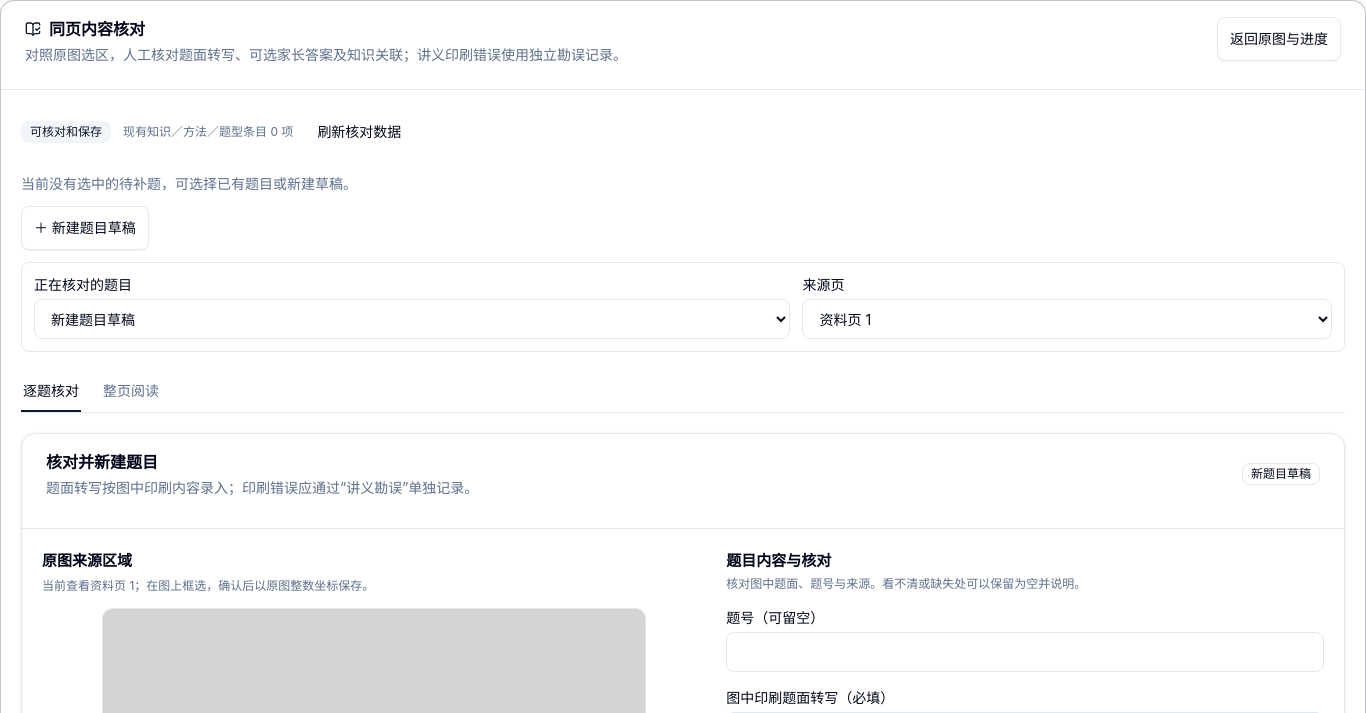
Test case: ContentWorkspace › does not derive a second work-text requirement when printed text is usable
Select "第 3 题 · 原印刷题面" in the dropdown labelled "正在核对的题目" at (412, 319), box [34, 299, 790, 339]
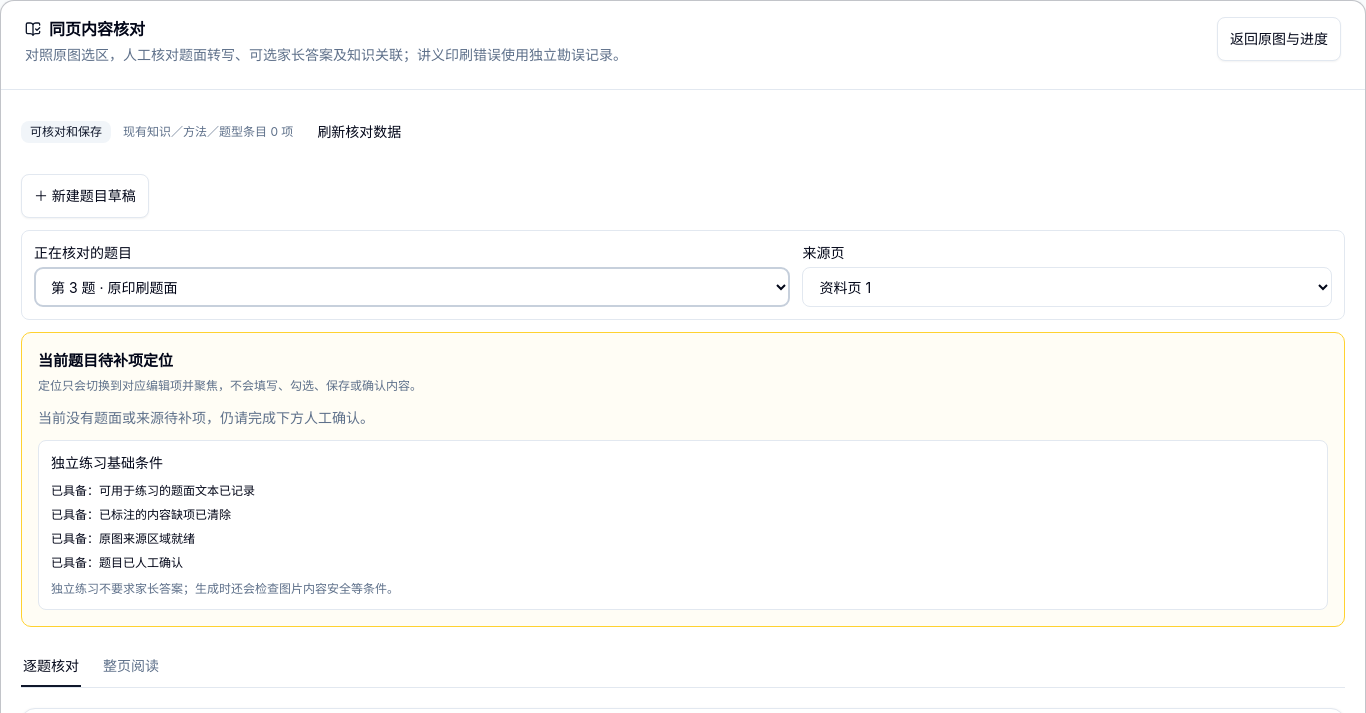
Now the list item "已具备：可用于练习的题面文本已记录" is shown, box [51, 483, 255, 498]
